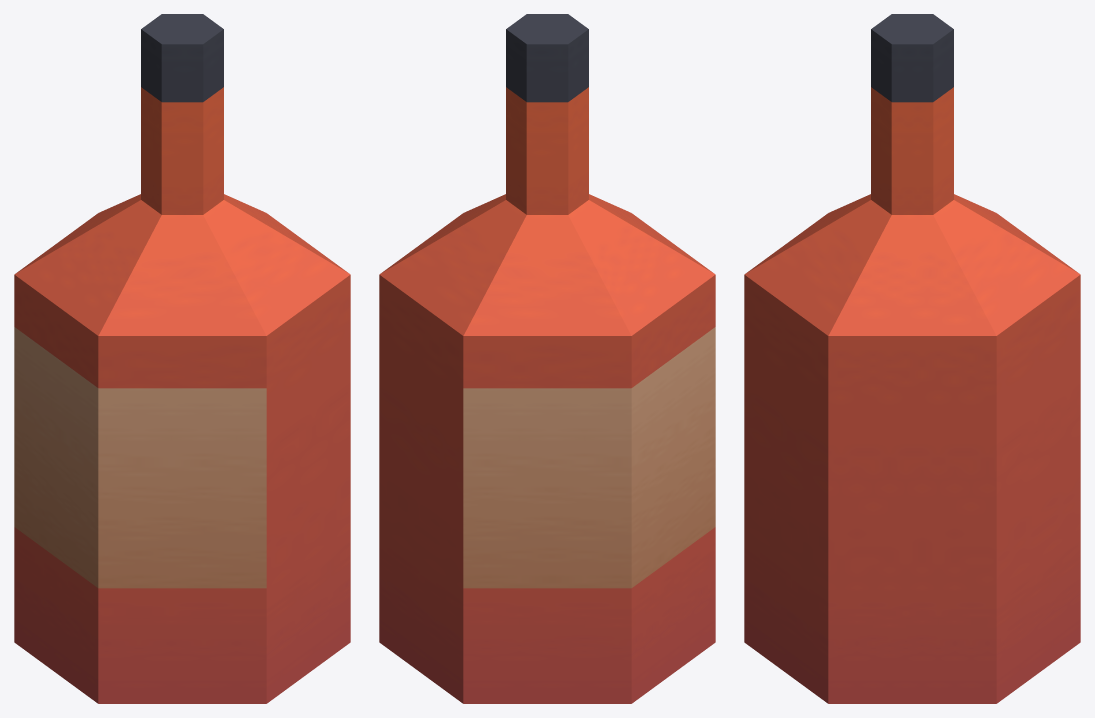
The model's file is bottleWide.fbx.
The picture shows the model from 3 angles, left to right: view 1: azimuth 30°, elevation 25°; view 2: azimuth 150°, elevation 25°; view 3: azimuth 270°, elevation 25°; orthographic projection.
Parts seen in each view (by area): view 1: bottleWide; view 2: bottleWide; view 3: bottleWide.
Part boxes in pixels (bbox=[...]): bottleWide: bbox=[14, 14, 350, 703]; bottleWide: bbox=[379, 14, 715, 703]; bottleWide: bbox=[744, 14, 1080, 703].
Size of the model in its own units: 0.1005 by 0.116 by 0.2334.
